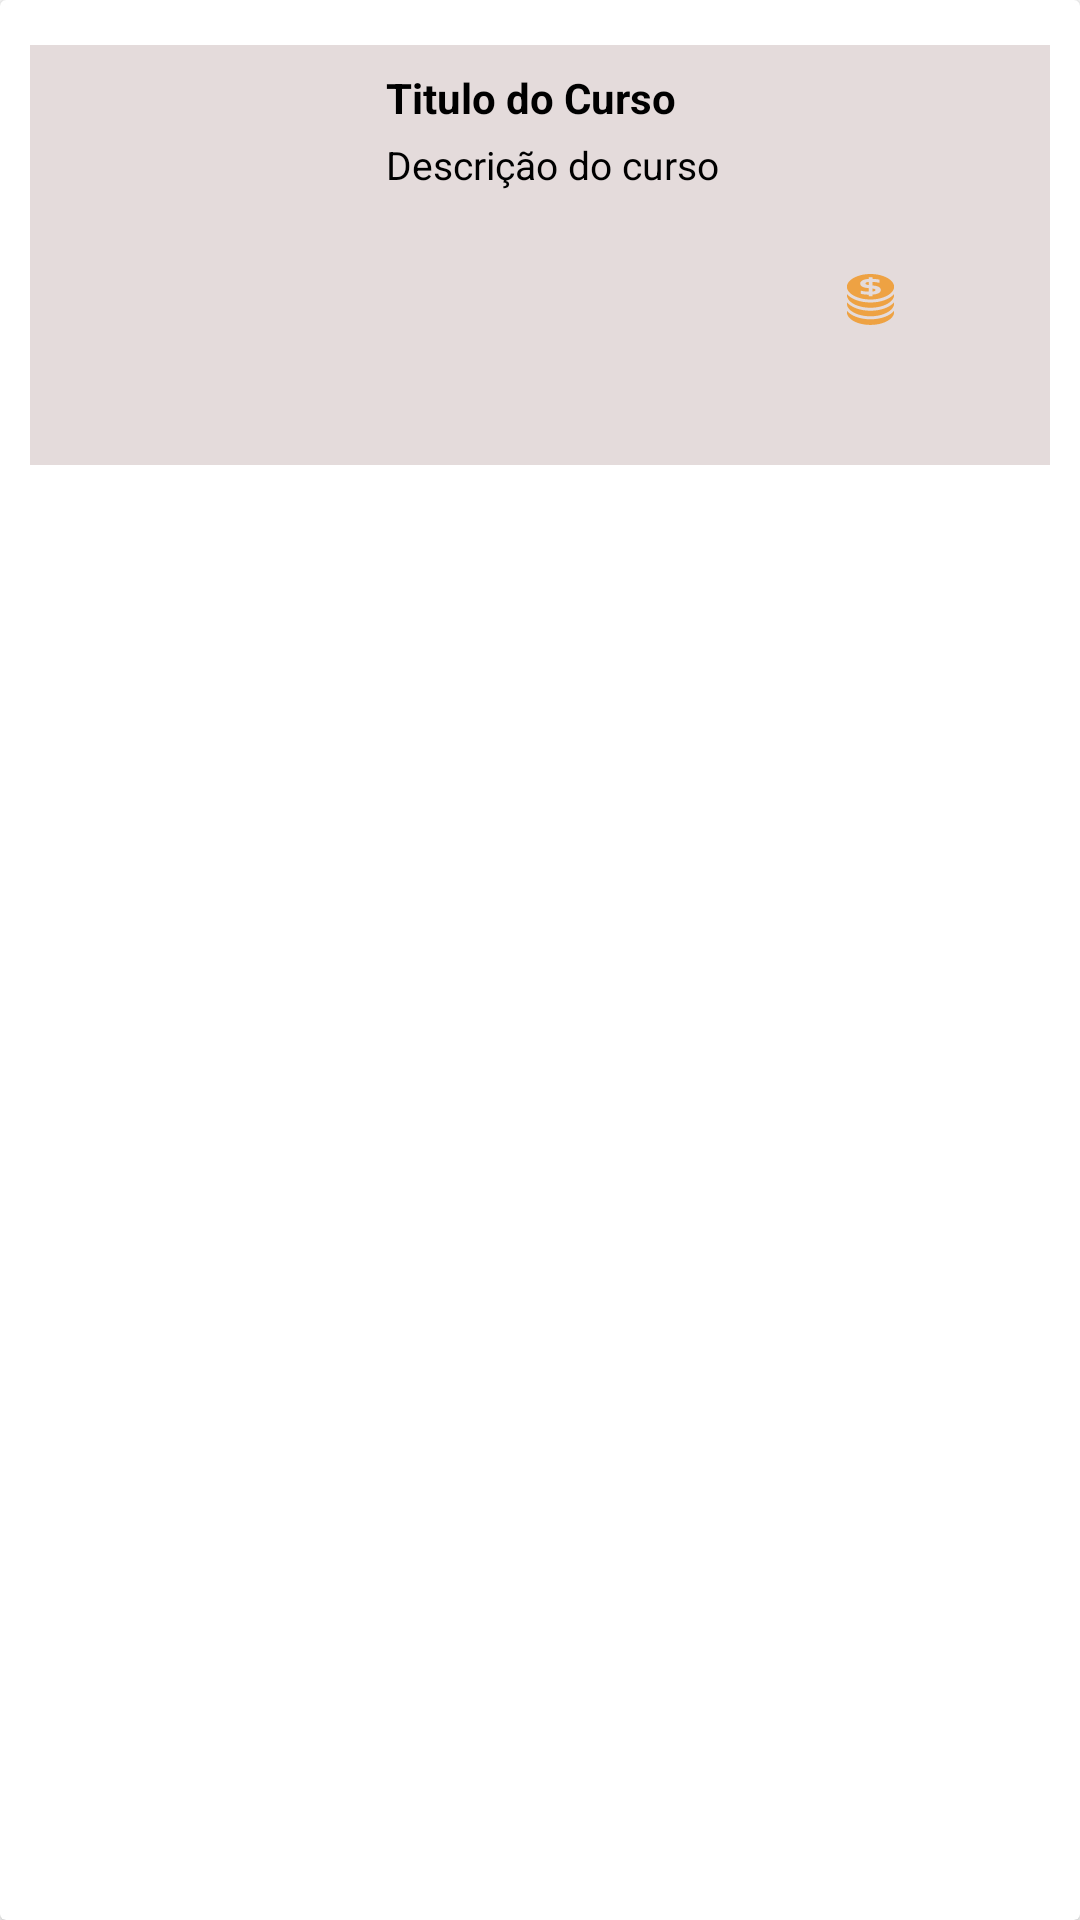

Icon bounding boxes for this 1080px x 1920px phone screenshot, format (x1, y1, x2, y2):
viden coins: (847, 274, 894, 325)
